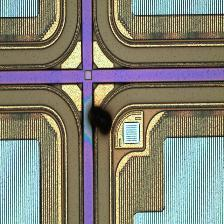PARTICLE: (83, 101, 119, 139)
